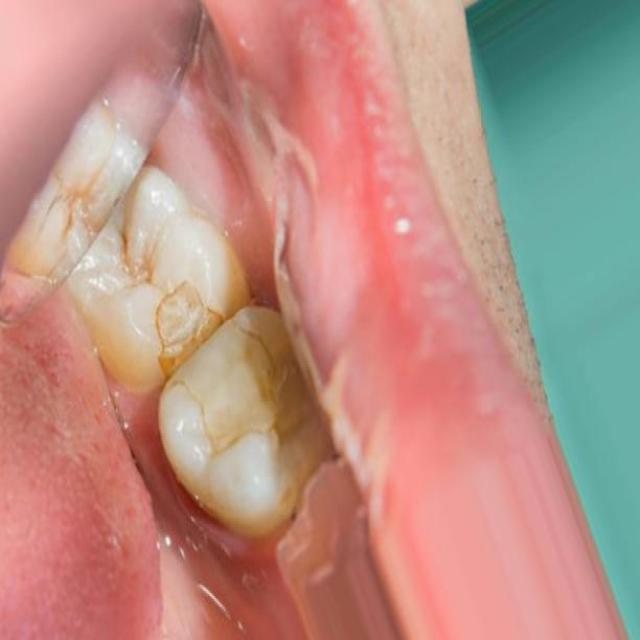caries: (142, 266, 304, 461)
